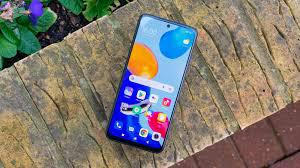Smartphone: (107, 13, 198, 150)
